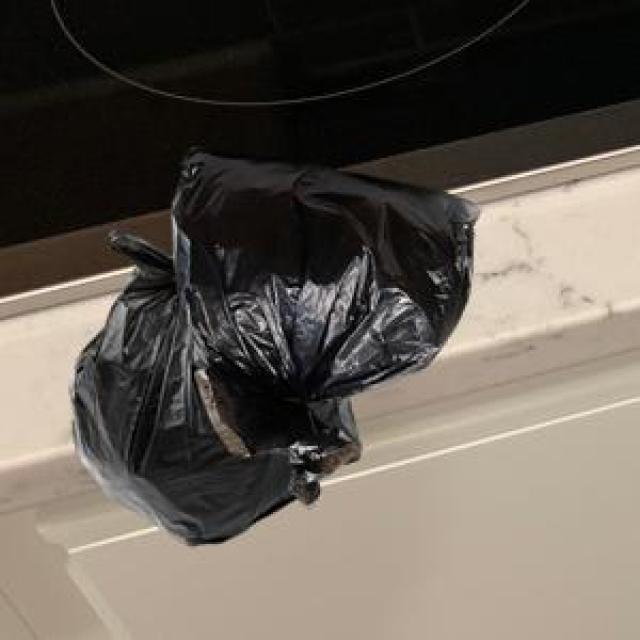waste: (75, 152, 474, 543)
